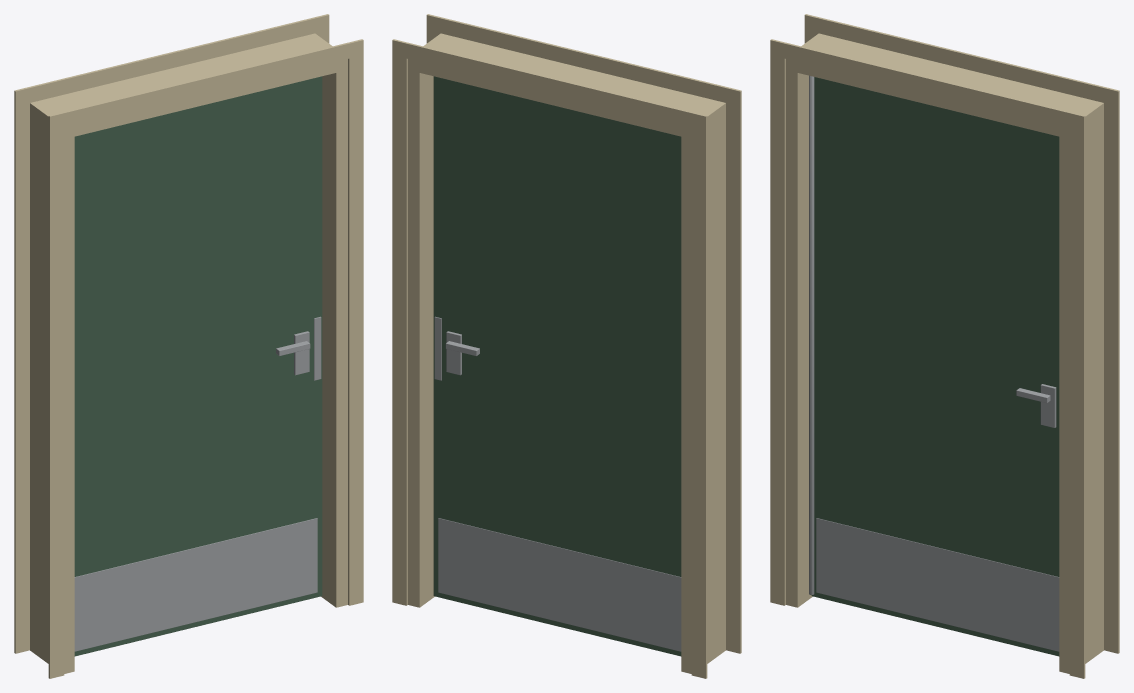
File: DOOR_Service_Historic_1200.glb
3 renders of one model, left to right at view 1: azimuth 30°, elevation 25°; view 2: azimuth 150°, elevation 25°; view 3: azimuth 330°, elevation 25°, orthographic.
Visible parts, largest first — view 1: DOOR_Service_Historic_1200_Leaf, DOOR_Service_Historic_1200_Frame; view 2: DOOR_Service_Historic_1200_Leaf, DOOR_Service_Historic_1200_Frame; view 3: DOOR_Service_Historic_1200_Leaf, DOOR_Service_Historic_1200_Frame.
Boxes of the visible parts, left/top/right/bottom form: DOOR_Service_Historic_1200_Leaf: left=74, top=76, right=322, bottom=656; DOOR_Service_Historic_1200_Frame: left=14, top=14, right=363, bottom=678; DOOR_Service_Historic_1200_Leaf: left=433, top=76, right=681, bottom=656; DOOR_Service_Historic_1200_Frame: left=392, top=14, right=741, bottom=678; DOOR_Service_Historic_1200_Leaf: left=809, top=75, right=1059, bottom=656; DOOR_Service_Historic_1200_Frame: left=770, top=14, right=1119, bottom=678.
Size of what is drawn, in the model's own units: 1.32 by 2.26 by 0.26.
